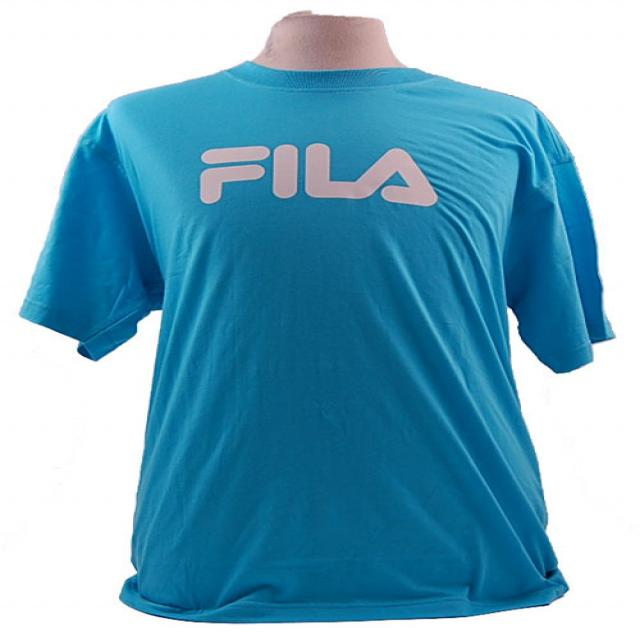T-shirt: (12, 59, 616, 614)
